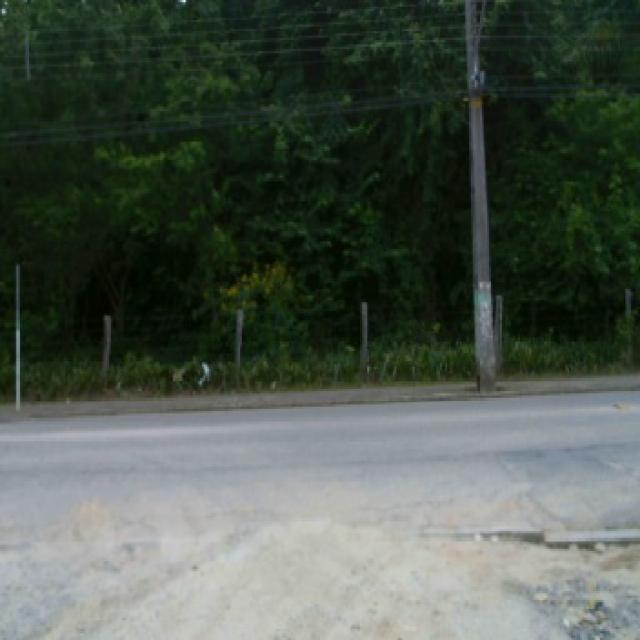Poth-hole: (528, 586, 628, 636), (474, 524, 636, 554), (610, 400, 626, 409)
